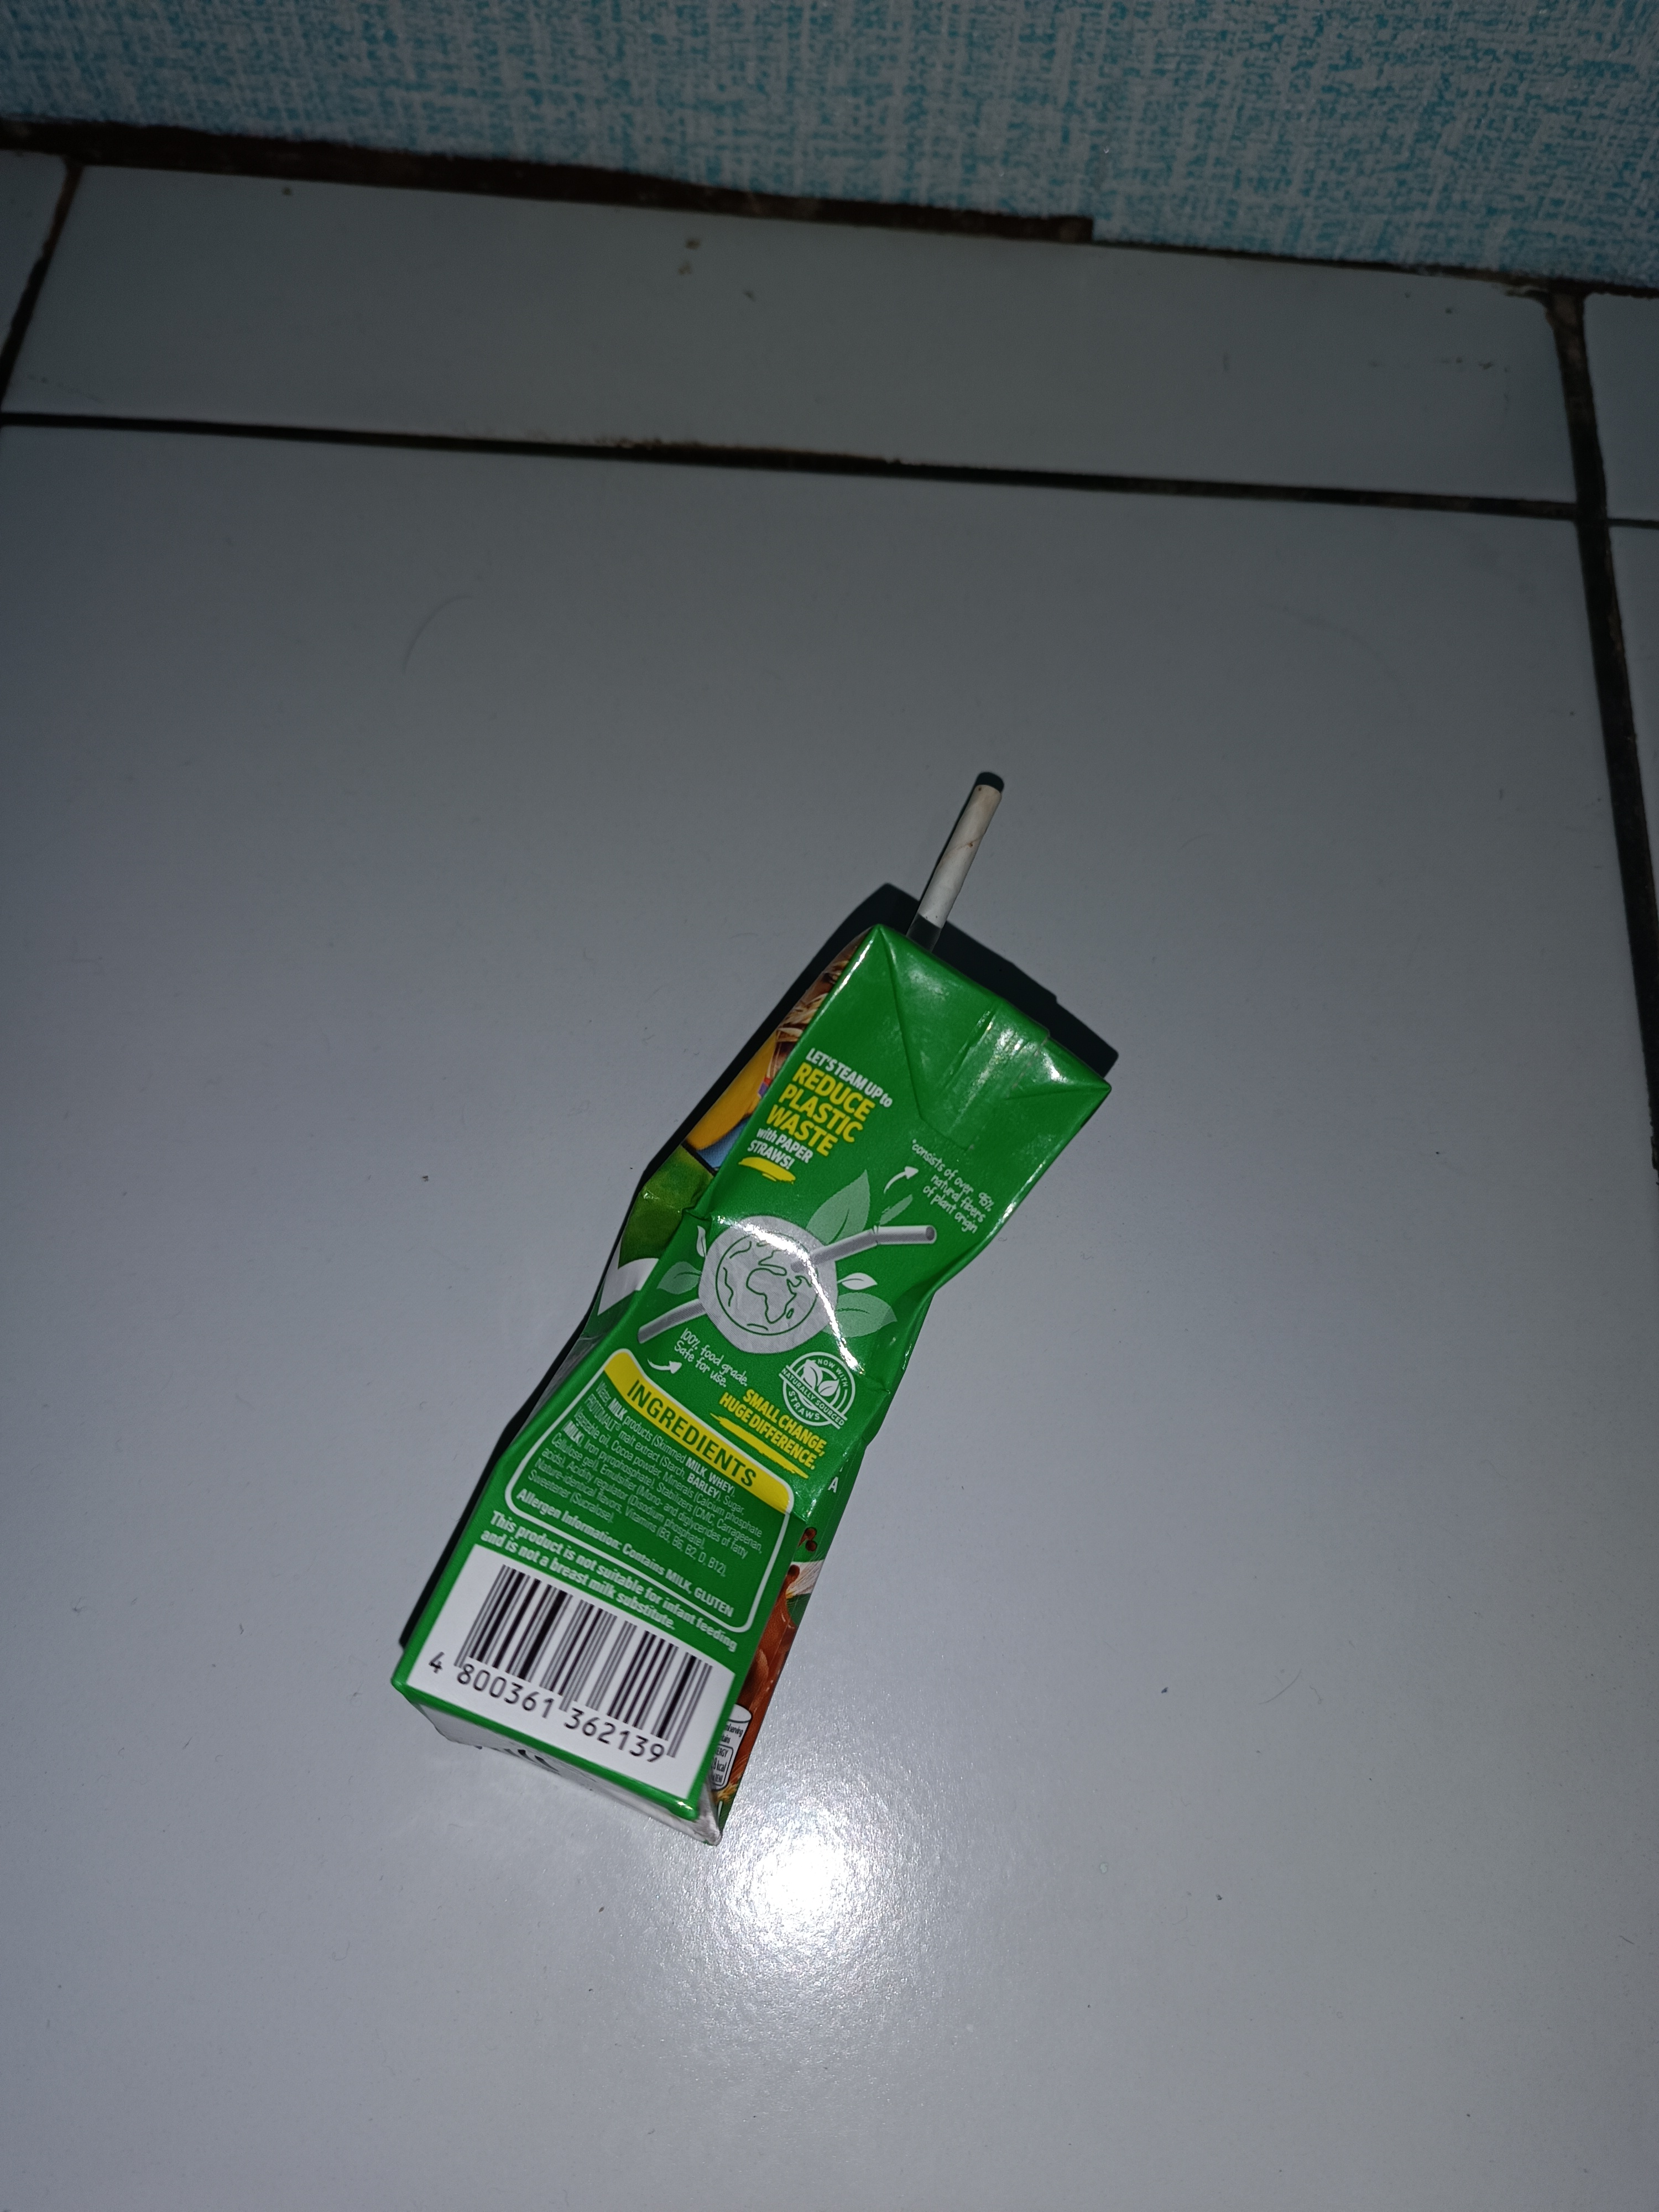Juice Box: (357, 693, 1309, 1914)
